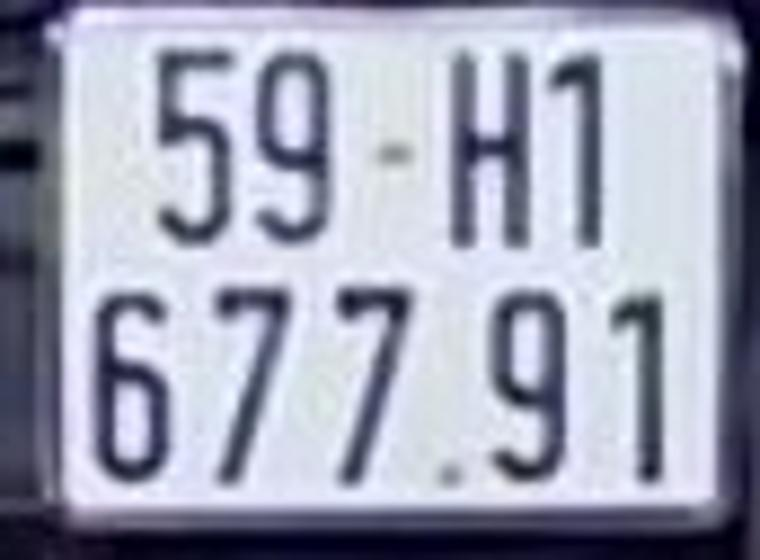-: (370, 137, 421, 170)
.: (440, 452, 470, 492)
1: (548, 46, 618, 256), (602, 287, 673, 494)
5: (150, 42, 246, 246)
6: (87, 282, 180, 483)
7: (330, 274, 419, 496), (210, 278, 295, 491)
9: (484, 287, 574, 490), (252, 42, 340, 248)
H: (443, 50, 541, 249)
